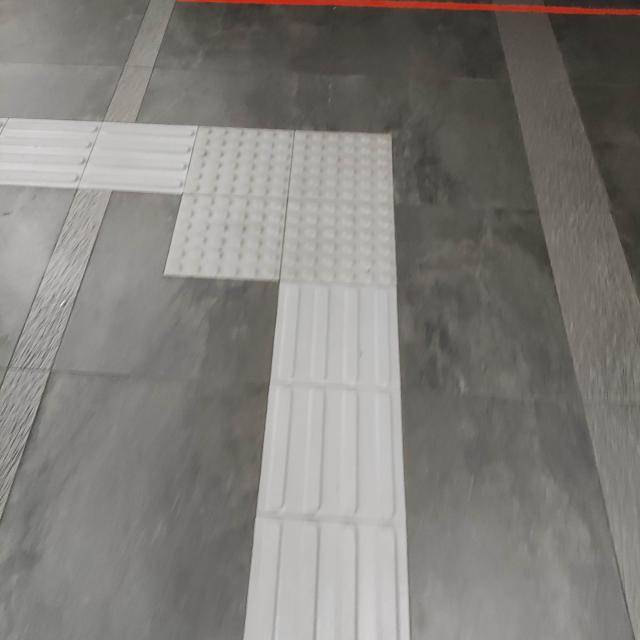kiri: (2, 74, 475, 358)
